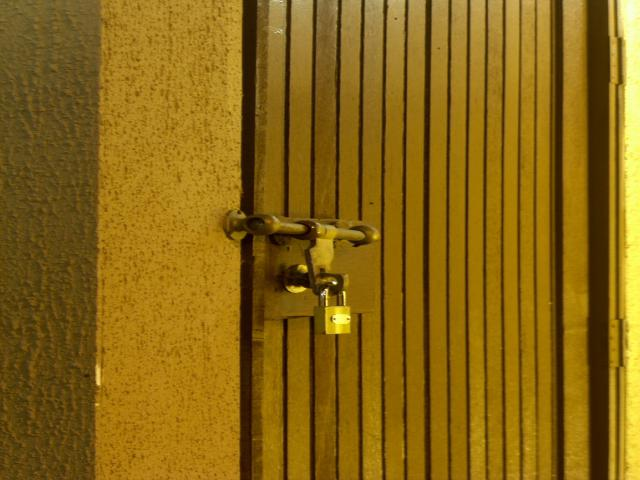Door-handle: (223, 204, 387, 304)
